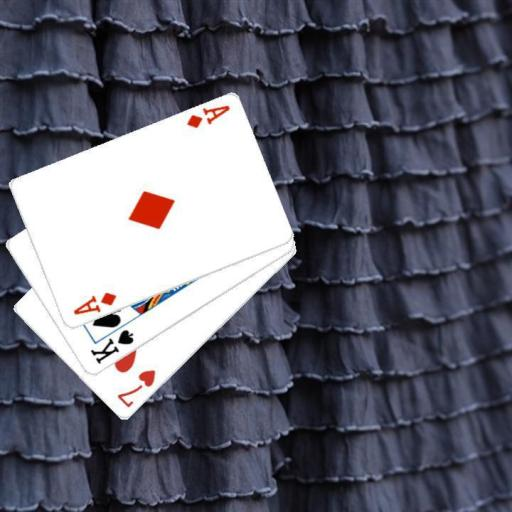card-corner: (114, 366, 157, 410), (88, 326, 135, 366), (70, 290, 118, 317), (184, 103, 231, 130)
